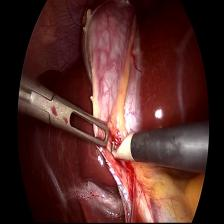Grasper: (23, 83, 109, 148)
Hook: (111, 130, 138, 162)
